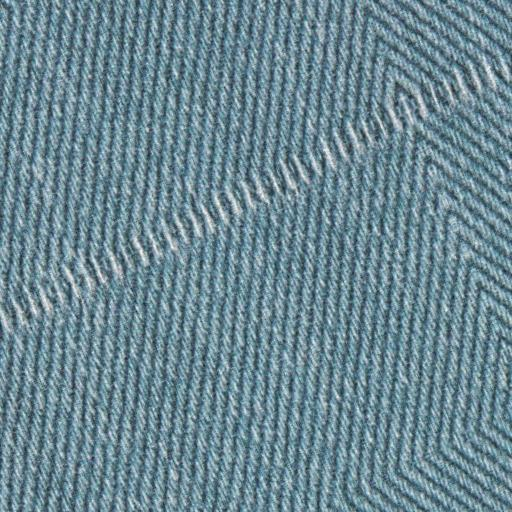slub: (3, 55, 512, 353)
